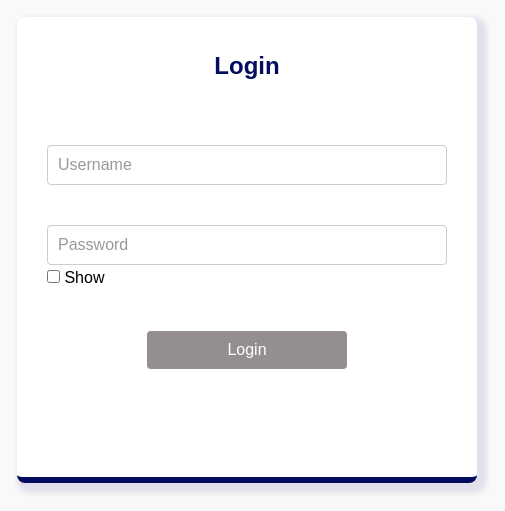
Login › displays error message for invalid email format
Type "invalid-email" into the field with placeholder "Username" at point(247, 165), box [47,145,447,185]
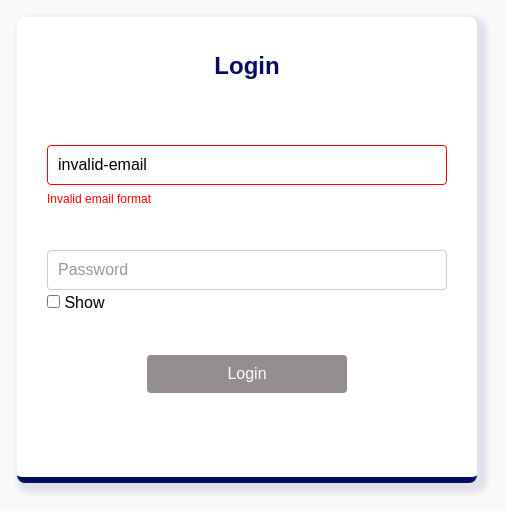
expect the text "Invalid email format" is shown: met, box [47,192,151,206]
